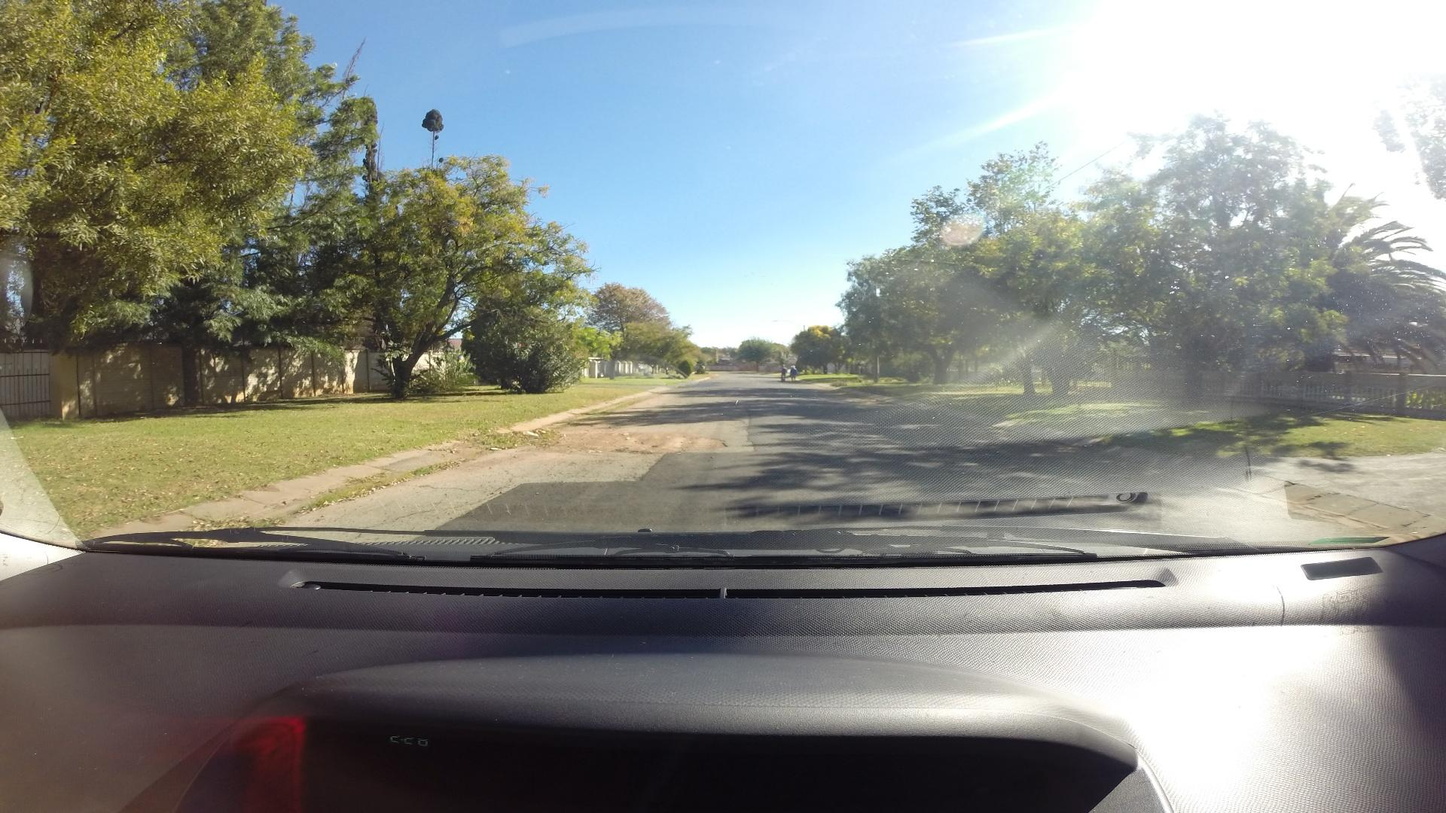pothole: (542, 430, 728, 454)
